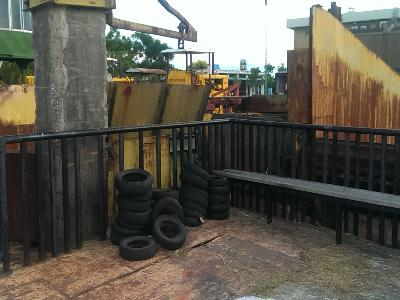tire: (152, 213, 188, 251), (116, 167, 153, 194), (118, 235, 157, 260), (181, 187, 210, 208), (117, 207, 152, 224), (115, 197, 152, 213), (185, 159, 211, 180)
